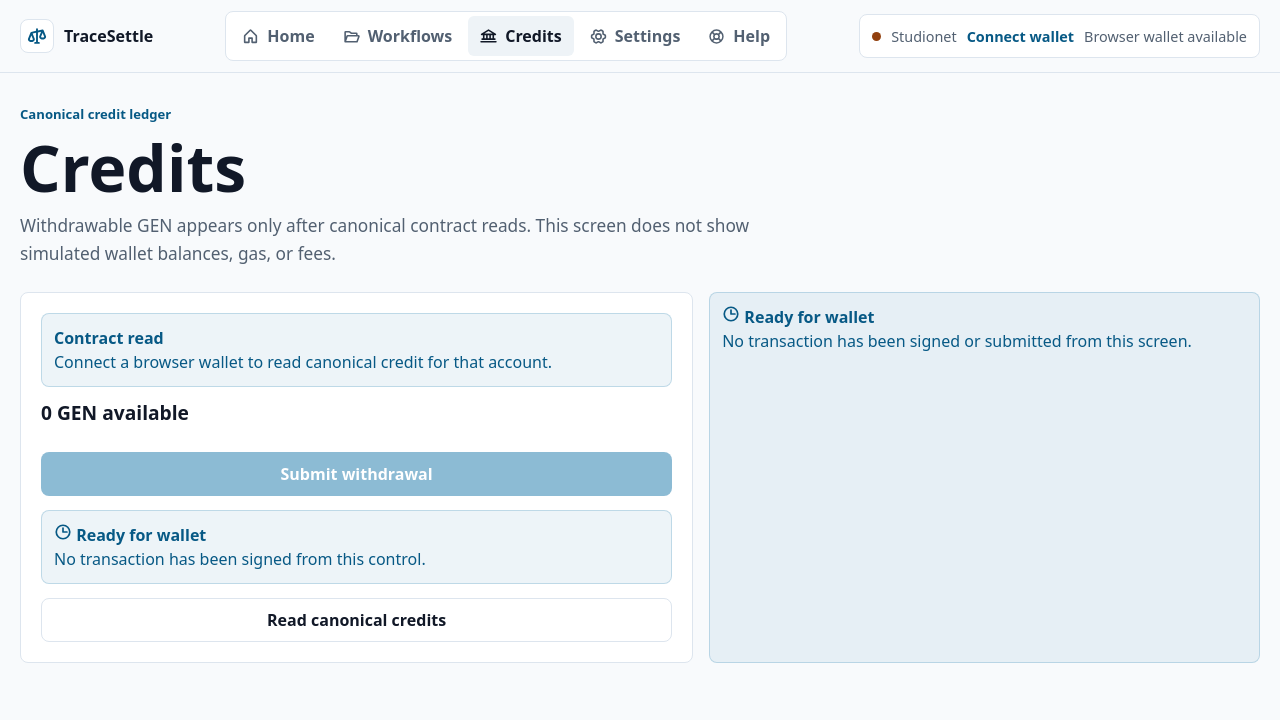
TraceSettle route map › surfaces a wallet rejection during canonical credit reads
Click the button "Read canonical credits" at coordinates (357, 620), box [41,598,672,642]
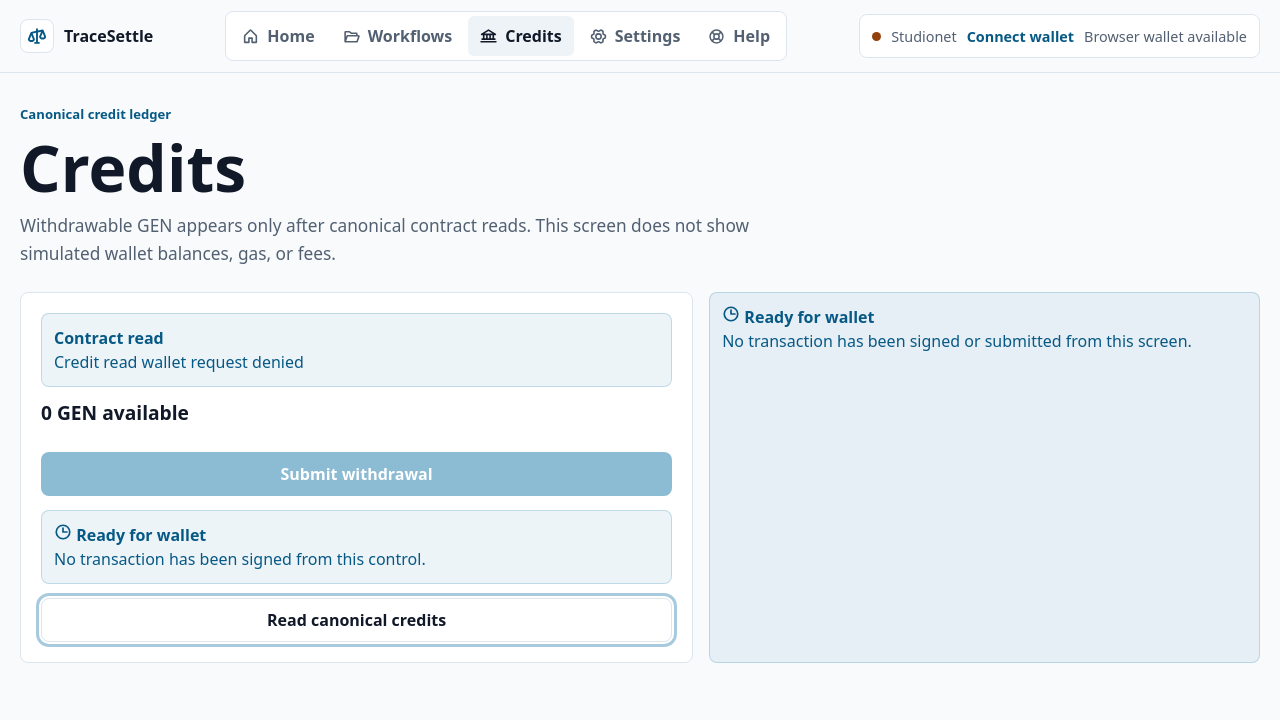
Expected: the heading "0 GEN available" is shown, [41,398,189,426]
Expected: the text "Credit read wallet request denied" is shown, [54,350,304,372]
